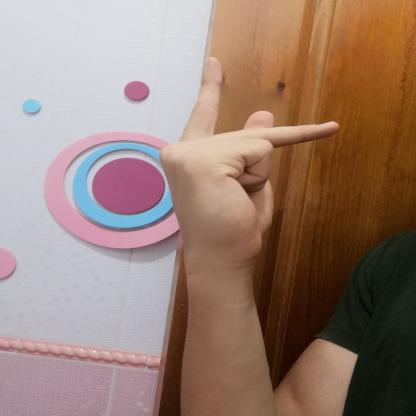DHAA: (147, 50, 347, 271)
